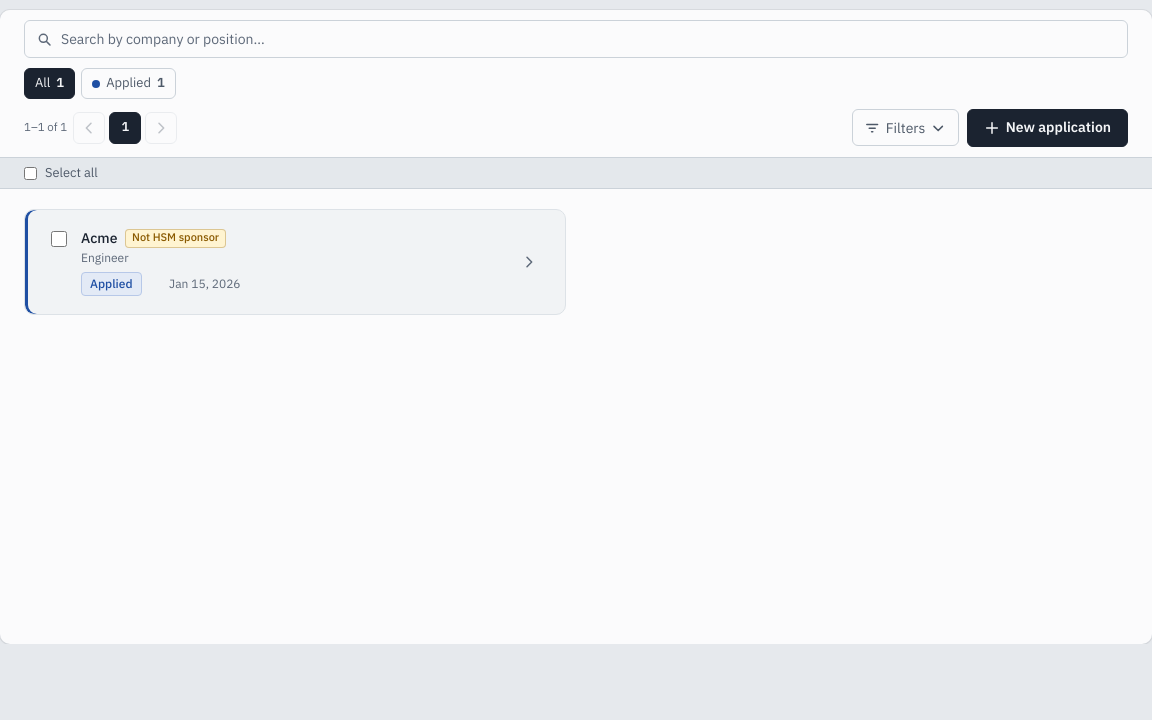
Test: ApplicationsView – list stagger transition › rows are hidden after search filter removes all matches
The image size is (1152, 720).
Expected: the number of list items with class "company-row" is 1, top-left (24, 209), bottom-right (566, 315)
Type "zzzzz" into the field with class "filter-input".
click(576, 39); type("zzzzz")  # box top-left (24, 20), bottom-right (1128, 58)
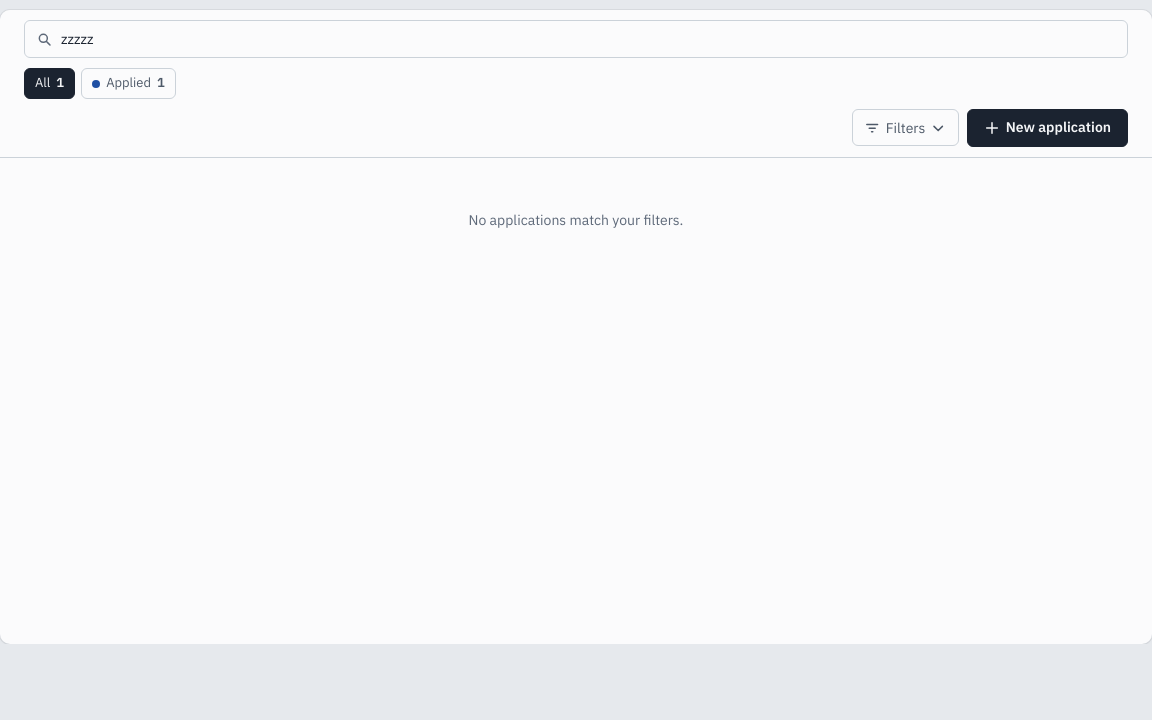
Now no list items with class "company-row" are shown
Now the text "No applications match your filters" is shown, box top-left (469, 211), bottom-right (683, 229)
